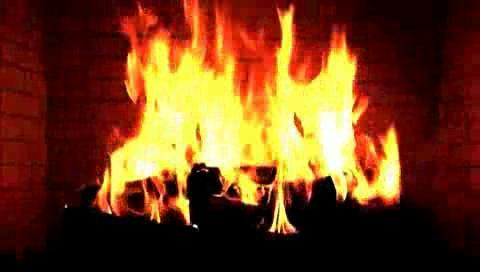fire: (99, 0, 410, 235)
